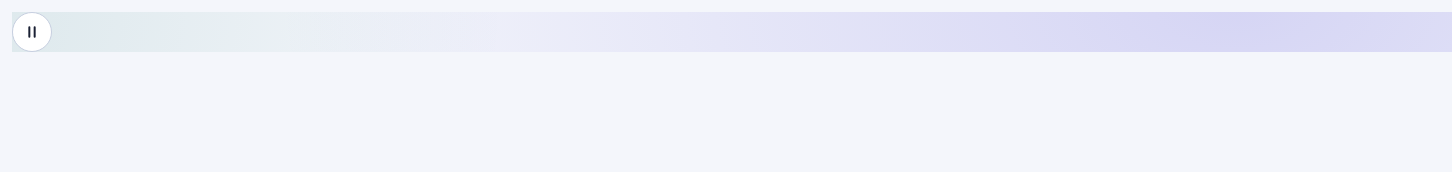
Test: MotionToggle and useMotion › starts unpaused, and pausing sets data-motion, aria-pressed and the saved choice
Later steps or results of the test are not shown.
Click the button named "Pause animations". click: (32, 32)
box: [12, 12, 52, 52]
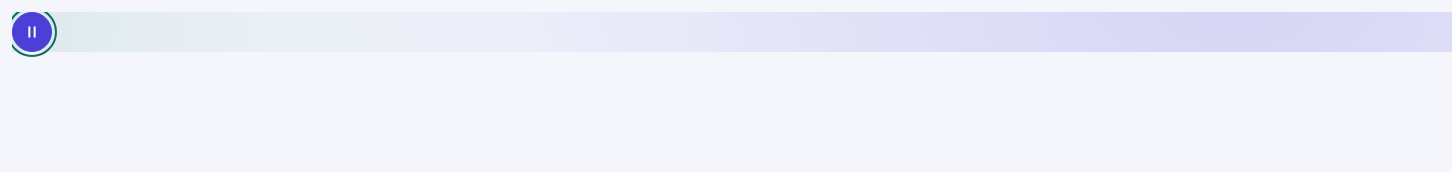
Expected: the button named "Pause animations" is pressed, [12, 12, 52, 52]
Expected: the button named "Pause animations" has attribute title="Animations paused", [12, 12, 52, 52]
